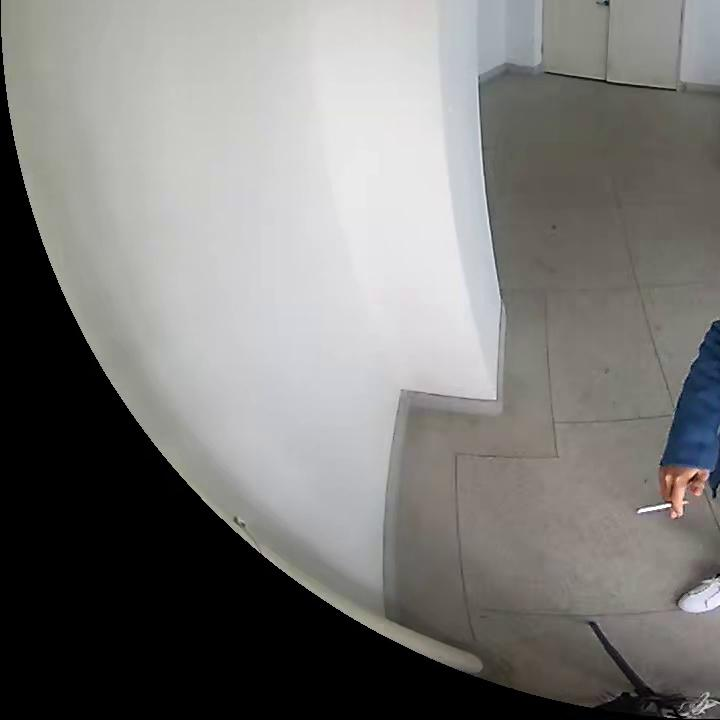handsmoke: (637, 469, 707, 519)
